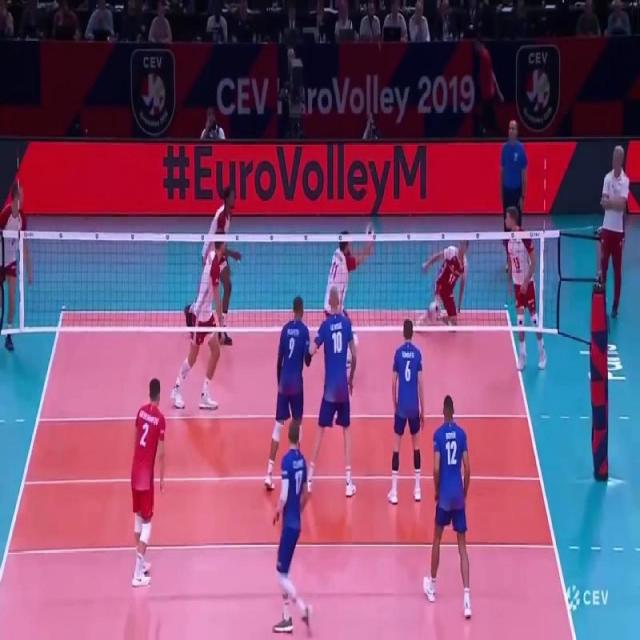volleyball: (365, 222, 376, 242)
